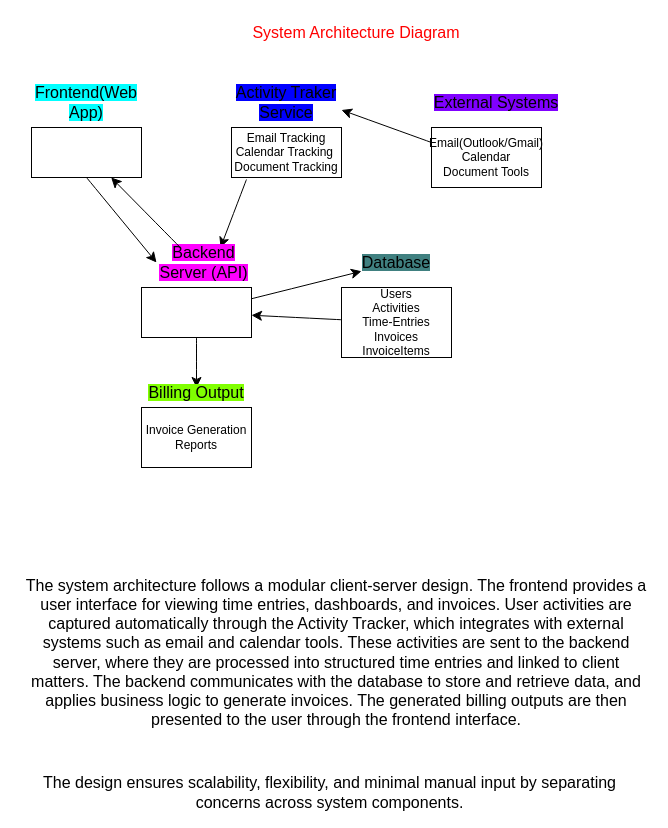
Some shapes in this 668 by 828 pixel diagram are drawn without their labels. Here are the shapes that lost their labels. From the top down, the centre of each, then its label:
point (86, 152): Dashboard Time Entries View Invoice View
point (196, 312): Activity Processing Time-Entry Logic Billing Logic
